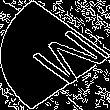M_SE: (7, 21, 103, 89)
